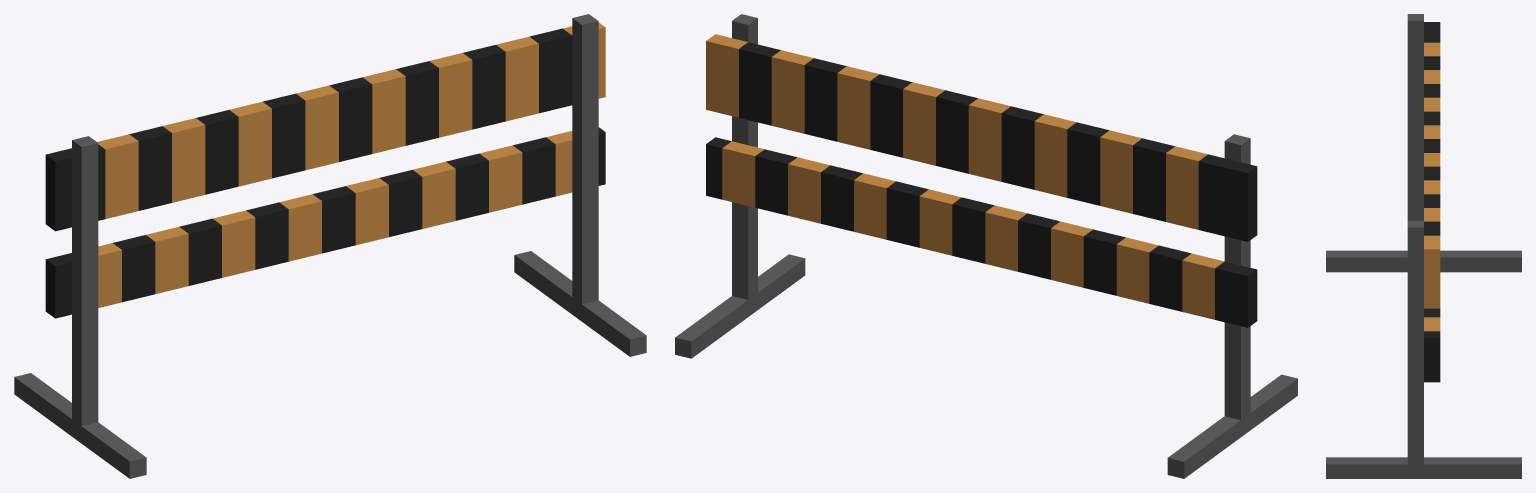
File: fenceply.fbx
The picture shows the model from 3 angles, left to right: view 1: azimuth 30°, elevation 25°; view 2: azimuth 150°, elevation 25°; view 3: azimuth 270°, elevation 25°; orthographic projection. The views are drawn at different scales.
Visible parts, largest first — view 1: bpw-5-fence; view 2: bpw-5-fence; view 3: bpw-5-fence.
Boxes of the visible parts, left/top/right/bottom form: bpw-5-fence: left=14, top=14, right=646, bottom=478; bpw-5-fence: left=675, top=14, right=1297, bottom=478; bpw-5-fence: left=1326, top=14, right=1521, bottom=478.
Bounding box in the file's own units: 330 × 170 × 120.
